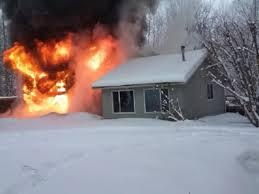fire: (1, 31, 113, 115)
